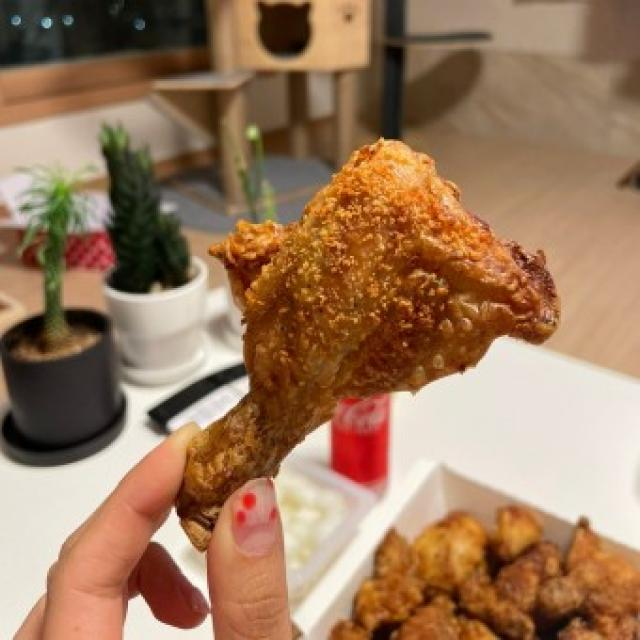Frango: (172, 97, 554, 533), (339, 490, 640, 640)
